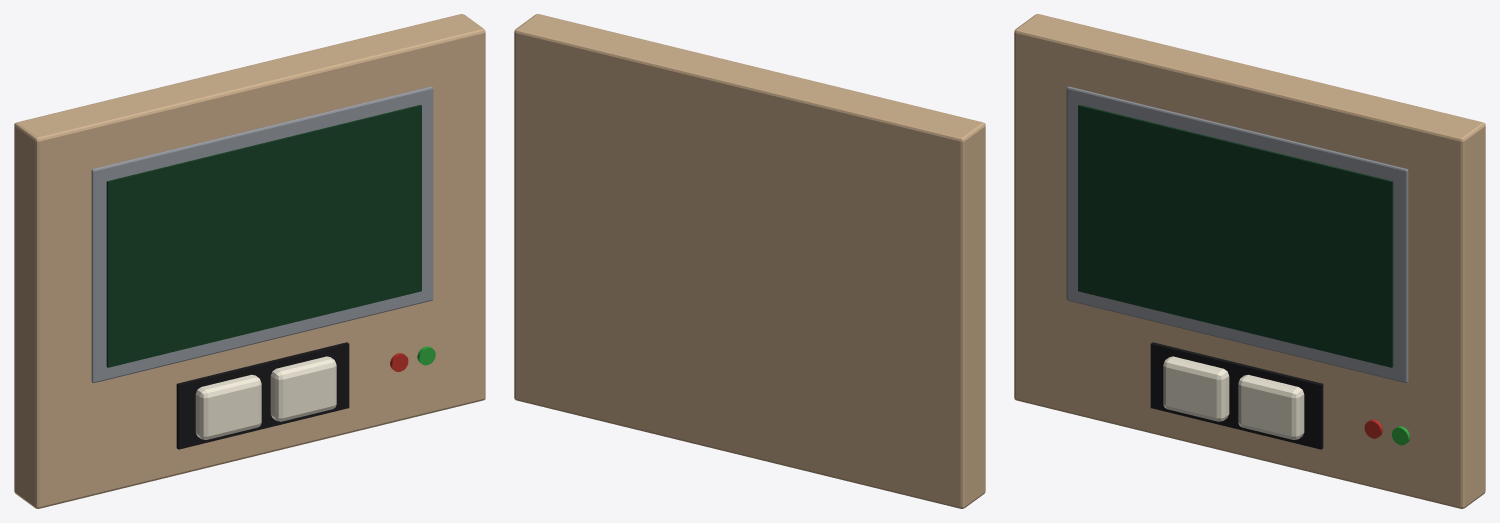
File: venting_module.glb
The picture shows the model from 3 angles, left to right: view 1: azimuth 30°, elevation 25°; view 2: azimuth 150°, elevation 25°; view 3: azimuth 330°, elevation 25°; orthographic projection.
Parts seen in each view (by area): view 1: vg_case, vg_screen, vg_bezel, vg_tray, part_vg_n, part_vg_y; view 2: vg_case; view 3: vg_case, vg_screen, vg_bezel, vg_tray, part_vg_y, part_vg_n.
Part boxes in pixels (x1,y1,x2,y2): vg_case: (14,14,485,508); vg_screen: (106,104,421,367); vg_bezel: (91,86,433,383); vg_tray: (176,342,349,449); part_vg_n: (270,356,336,421); part_vg_y: (195,374,261,439); vg_case: (514,14,985,508); vg_case: (1014,14,1485,508); vg_screen: (1078,104,1393,367); vg_bezel: (1066,86,1408,383); vg_tray: (1150,342,1323,449); part_vg_y: (1163,356,1229,421); part_vg_n: (1238,374,1304,439).
Bounding box in the file's own units: 0.66 × 0.52 × 0.0835.
